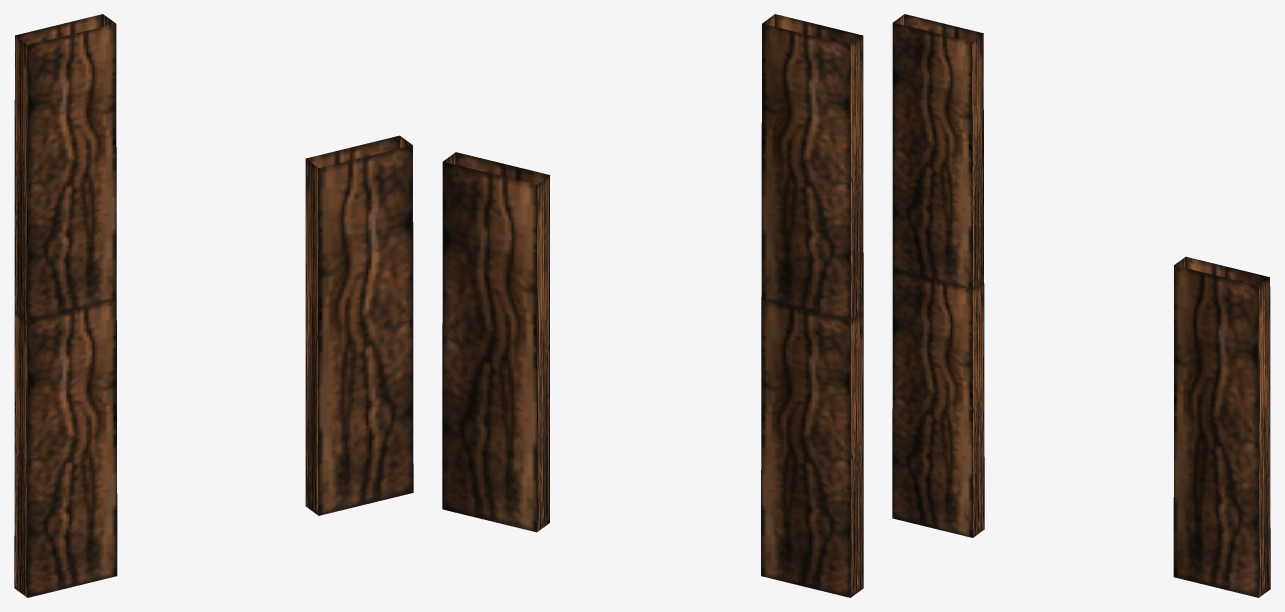
File: LAKETOWN_WAREHOUSE3_PS_WH3_BIGBEAMS2_84847.fbx
The picture shows the model from 3 angles, left to right: view 1: azimuth 30°, elevation 25°; view 2: azimuth 150°, elevation 25°; view 3: azimuth 330°, elevation 25°; orthographic projection. The views are drawn at different scales.
Visible parts, largest first — view 1: LAKETOWN_WAREHOUSE3_PS_WH3_BIGBEAMS2_84847; view 2: LAKETOWN_WAREHOUSE3_PS_WH3_BIGBEAMS2_84847; view 3: LAKETOWN_WAREHOUSE3_PS_WH3_BIGBEAMS2_84847.
Part boxes in pixels (bbox=[...]): LAKETOWN_WAREHOUSE3_PS_WH3_BIGBEAMS2_84847: bbox=[14, 14, 413, 597]; LAKETOWN_WAREHOUSE3_PS_WH3_BIGBEAMS2_84847: bbox=[442, 14, 863, 597]; LAKETOWN_WAREHOUSE3_PS_WH3_BIGBEAMS2_84847: bbox=[892, 14, 1270, 597].
Size of the model in its own units: 43309 by 57593 by 4613.
1 material, 1 textured.
